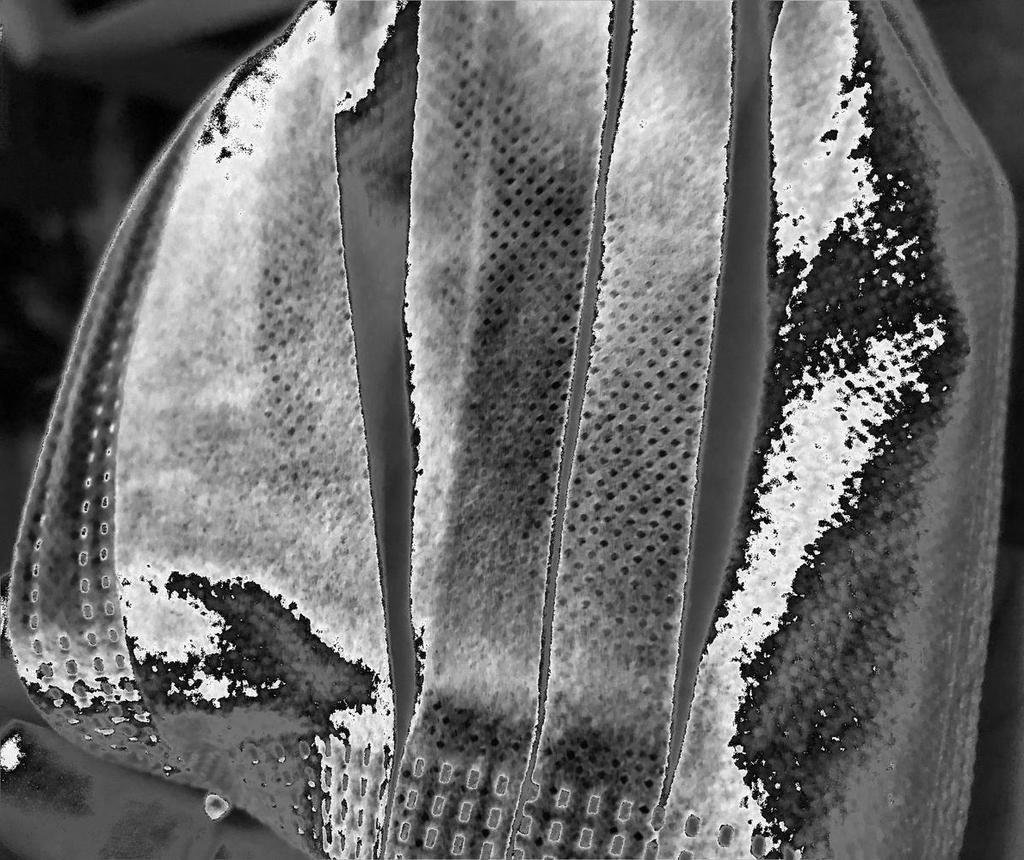Low GSM: (143, 1, 923, 805)
